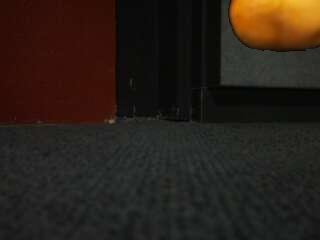Potato: (229, 0, 320, 52)
